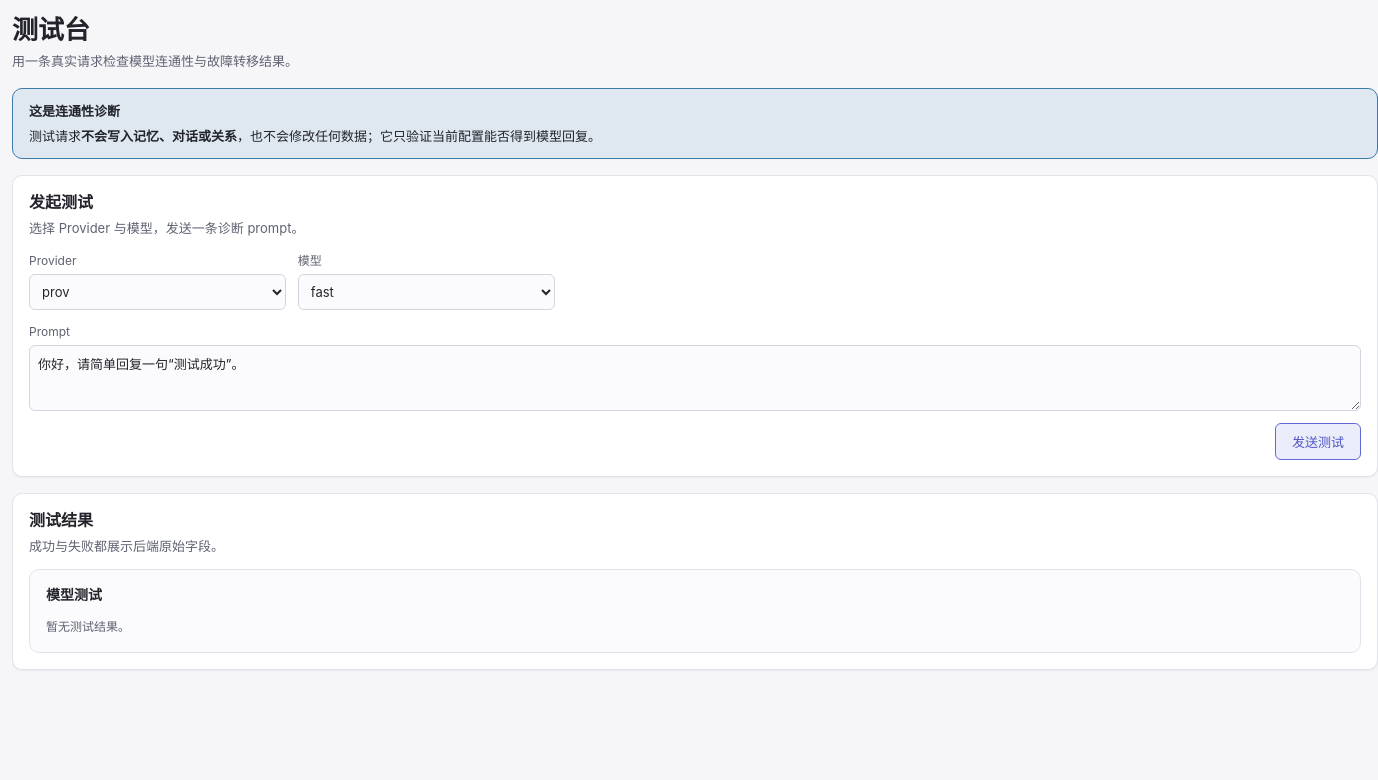
AiTest › switching provider resets the model options to that provider
Select "other" in the dropdown with test id "test-provider" at [157, 292], box [29, 274, 286, 310]
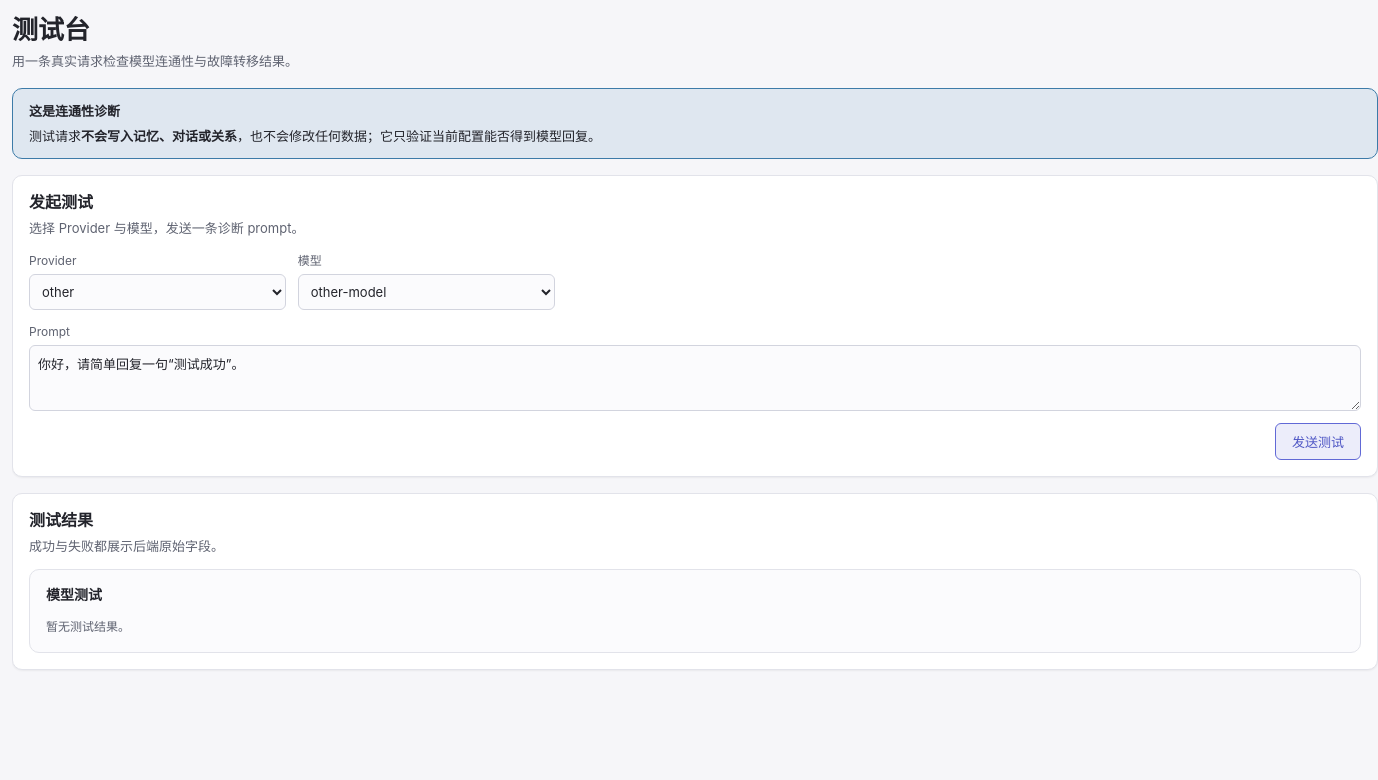
Result: the dropdown with test id "test-model" shows "other-model" at [298, 274, 555, 310]
